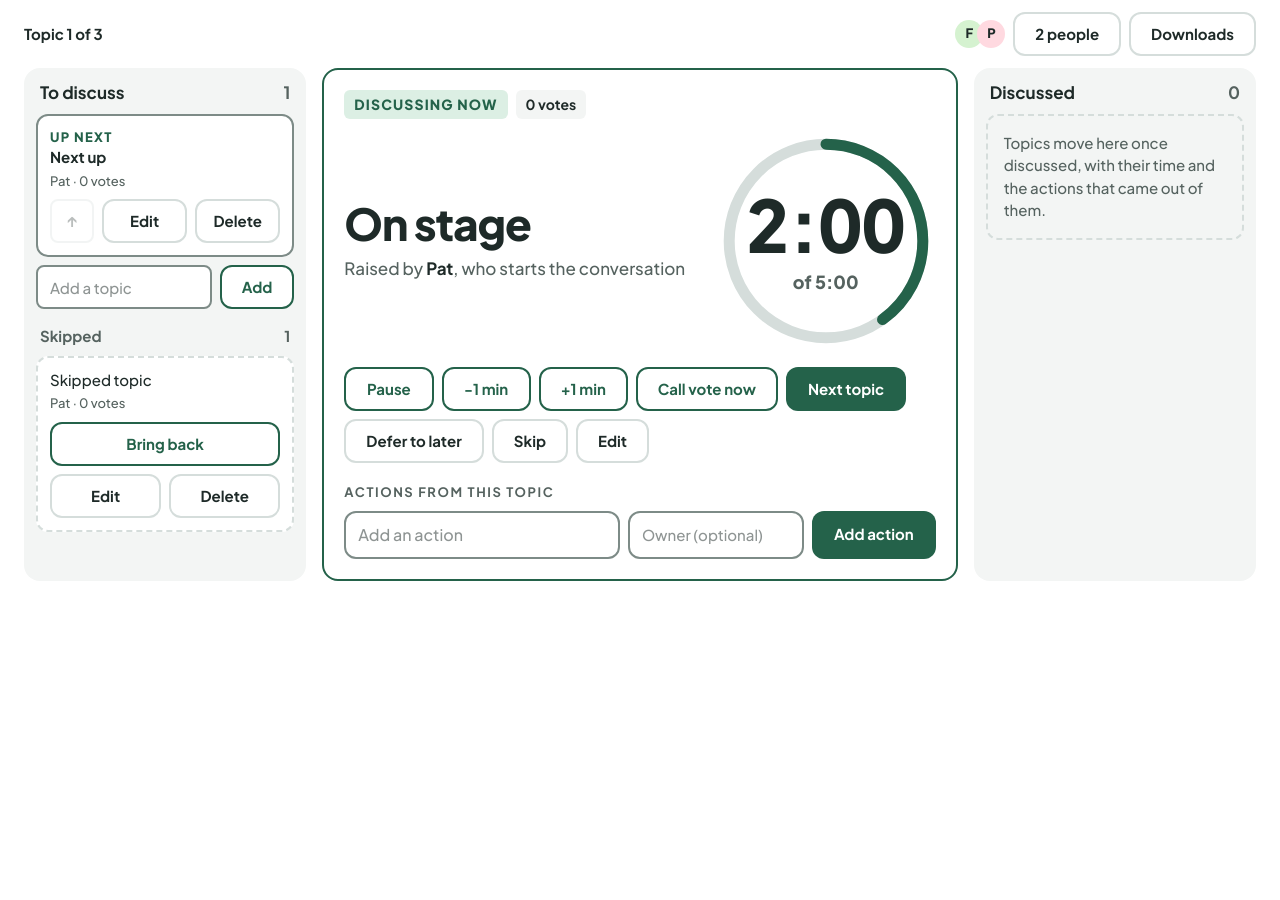
Test case: Discuss board › opens the people dialog from the toolbar
The width and height of the screenshot is (1280, 900).
Click the button "2 people" at (1067, 34), box left=1013, top=12, right=1121, bottom=56
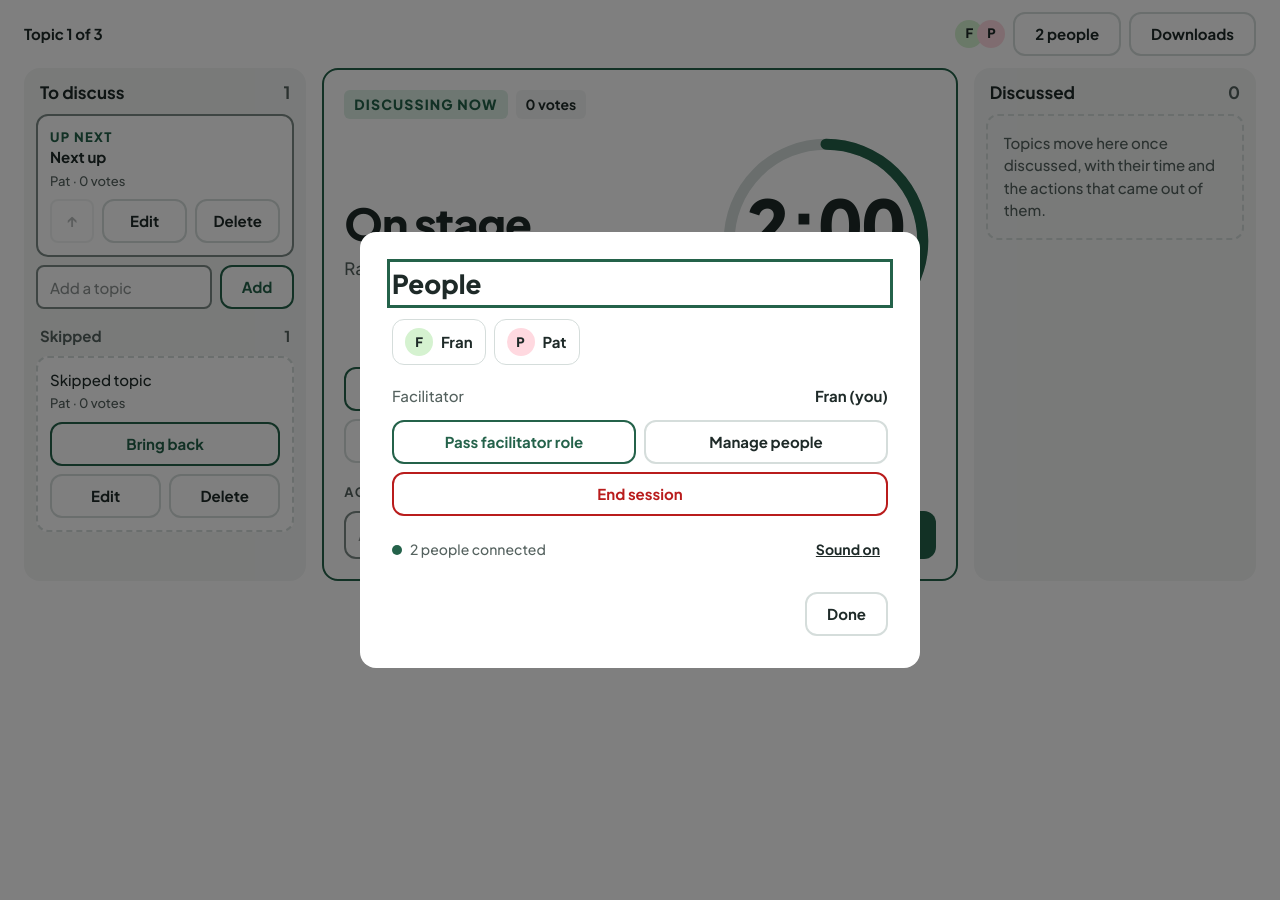
Expected: the list items read "FFran", "PPat", in this order, left=392, top=319, right=486, bottom=365; left=494, top=319, right=580, bottom=365
Expected: the dialog "People" shows "Fran (you)", left=360, top=232, right=920, bottom=668
Expected: the button "Pass facilitator role" is shown, left=392, top=420, right=636, bottom=464
Click the button "Done" at (846, 614), box left=805, top=592, right=888, bottom=636
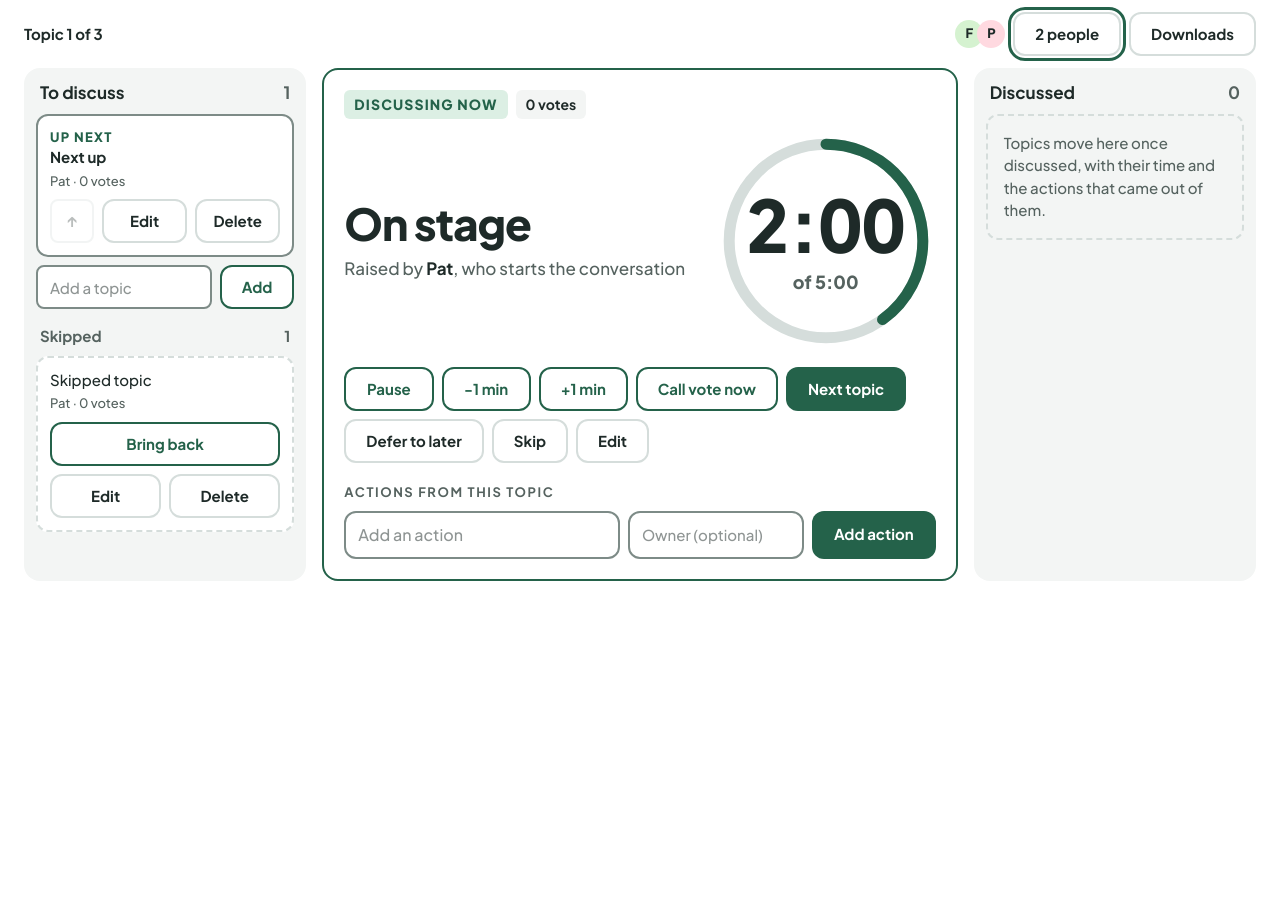
Expected: the dialog is gone
